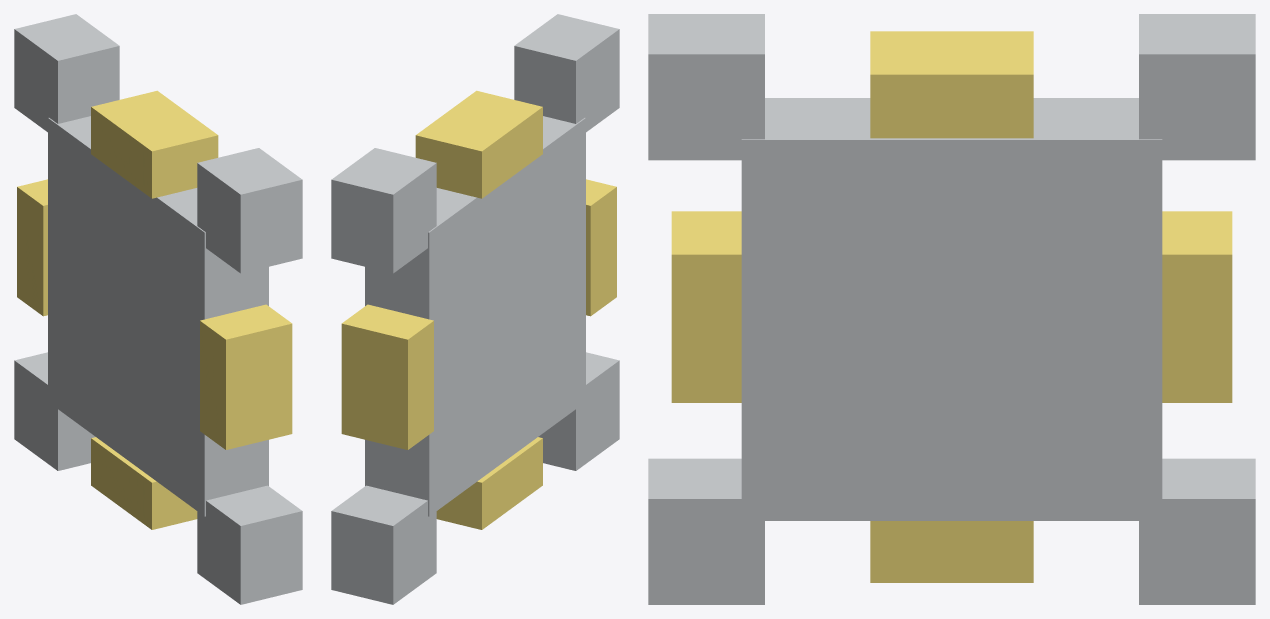
Rendered from cpu_am5.glb.
3 views of the same model, side by side, from view 1: azimuth 30°, elevation 25°; view 2: azimuth 150°, elevation 25°; view 3: azimuth 270°, elevation 25° (orthographic). The views are drawn at different scales.
Parts seen in each view (by area): view 1: AM5_CenterIHS, AM5_Cap_V_-0.21, AM5_Tab_-0.21_0.21, AM5_Tab_-0.21_-0.21, AM5_Tab_0.21_0.21, AM5_Cap_H_0.21, AM5_Tab_0.21_-0.21, AM5_Cap_H_-0.21, AM5_Cap_V_0.21; view 2: AM5_CenterIHS, AM5_Cap_V_0.21, AM5_Tab_0.21_0.21, AM5_Tab_0.21_-0.21, AM5_Tab_-0.21_0.21, AM5_Cap_H_0.21, AM5_Tab_-0.21_-0.21, AM5_Cap_H_-0.21, AM5_Cap_V_-0.21; view 3: AM5_CenterIHS, AM5_Cap_H_0.21, AM5_Tab_0.21_0.21, AM5_Tab_-0.21_0.21, AM5_Tab_0.21_-0.21, AM5_Tab_-0.21_-0.21, AM5_Cap_V_0.21, AM5_Cap_V_-0.21, AM5_Cap_H_-0.21.
Part boxes in pixels (x1=…): AM5_CenterIHS: x1=48, y1=116, x2=268, y2=516; AM5_Cap_V_-0.21: x1=200, y1=304, x2=292, y2=449; AM5_Tab_-0.21_0.21: x1=197, y1=148, x2=302, y2=273; AM5_Tab_-0.21_-0.21: x1=197, y1=485, x2=302, y2=604; AM5_Tab_0.21_0.21: x1=14, y1=14, x2=119, y2=132; AM5_Cap_H_0.21: x1=91, y1=90, x2=218, y2=198; AM5_Tab_0.21_-0.21: x1=14, y1=352, x2=95, y2=470; AM5_Cap_H_-0.21: x1=91, y1=437, x2=197, y2=529; AM5_Cap_V_0.21: x1=17, y1=179, x2=47, y2=316; AM5_CenterIHS: x1=365, y1=116, x2=585, y2=516; AM5_Cap_V_0.21: x1=341, y1=304, x2=433, y2=449; AM5_Tab_0.21_0.21: x1=331, y1=148, x2=436, y2=273; AM5_Tab_0.21_-0.21: x1=331, y1=485, x2=436, y2=604; AM5_Tab_-0.21_0.21: x1=514, y1=14, x2=619, y2=132; AM5_Cap_H_0.21: x1=415, y1=90, x2=542, y2=198; AM5_Tab_-0.21_-0.21: x1=538, y1=352, x2=619, y2=470; AM5_Cap_H_-0.21: x1=436, y1=437, x2=542, y2=529; AM5_Cap_V_-0.21: x1=586, y1=179, x2=616, y2=316; AM5_CenterIHS: x1=741, y1=98, x2=1162, y2=520; AM5_Cap_H_0.21: x1=870, y1=31, x2=1033, y2=138; AM5_Tab_0.21_0.21: x1=1139, y1=14, x2=1255, y2=160; AM5_Tab_-0.21_0.21: x1=648, y1=14, x2=764, y2=160; AM5_Tab_0.21_-0.21: x1=1139, y1=458, x2=1255, y2=604; AM5_Tab_-0.21_-0.21: x1=648, y1=458, x2=764, y2=604; AM5_Cap_V_0.21: x1=1162, y1=211, x2=1232, y2=402; AM5_Cap_V_-0.21: x1=671, y1=211, x2=741, y2=402; AM5_Cap_H_-0.21: x1=870, y1=521, x2=1033, y2=582.
Bounding box in the file's own units: 0.0915 × 0.52 × 0.52.
